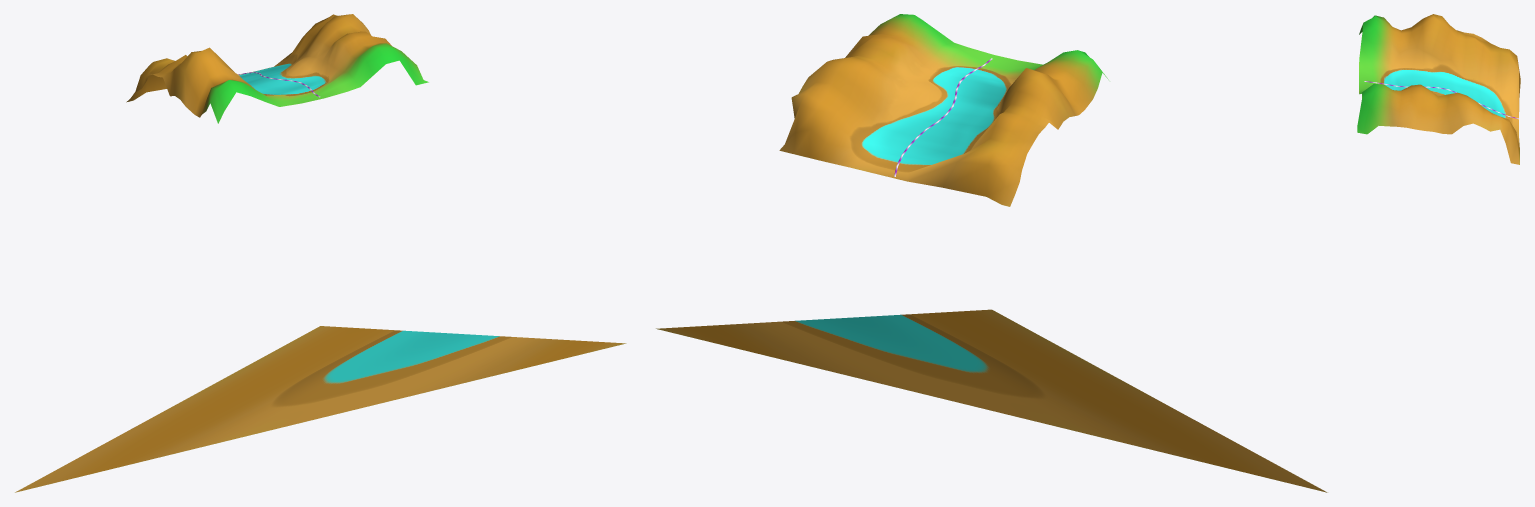
File: L_Yhan2.fbx
3 renders of one model, left to right at view 1: azimuth 30°, elevation 25°; view 2: azimuth 150°, elevation 25°; view 3: azimuth 270°, elevation 25°, orthographic. The views are drawn at different scales.
Parts seen in each view (by area): view 1: Obj, LocYhan2; view 2: LocYhan2, Obj; view 3: LocYhan2.
Boxes of the visible parts, x1=… form: Obj: x1=15, y1=326, x2=626, y2=492; LocYhan2: x1=126, y1=14, x2=428, y2=123; LocYhan2: x1=779, y1=14, x2=1108, y2=206; Obj: x1=656, y1=309, x2=1327, y2=492; LocYhan2: x1=1357, y1=14, x2=1520, y2=164.
Size of the model in its own units: 200 by 112 by 52.83.
